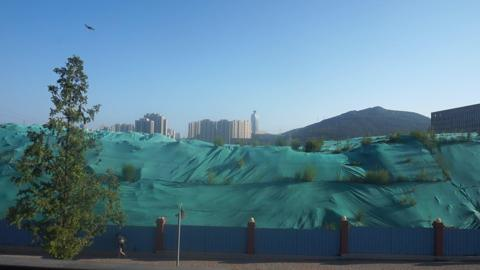UAV: (84, 24, 96, 31)
